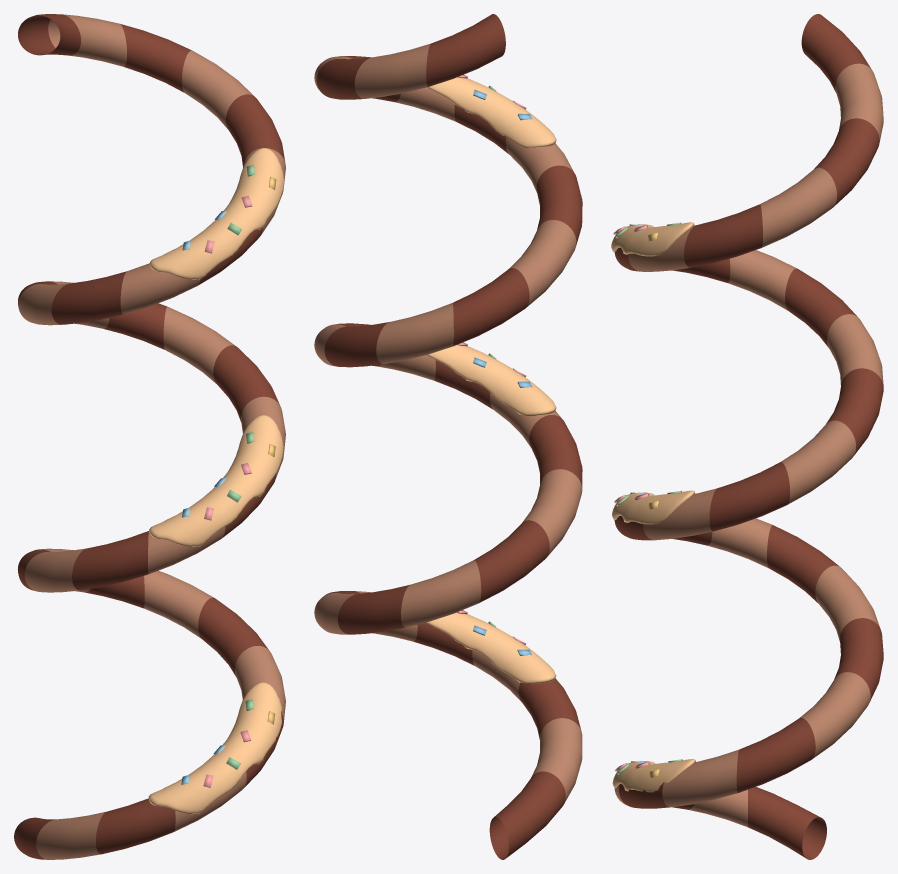
Rendered from spiral2.fbx.
The picture shows the model from 3 angles, left to right: view 1: azimuth 30°, elevation 25°; view 2: azimuth 150°, elevation 25°; view 3: azimuth 270°, elevation 25°; orthographic projection.
Visible parts, largest first — view 1: spiral_light.003; view 2: spiral_light.003; view 3: spiral_light.003.
Boxes of the visible parts, x1,y1,x2,y2 form: spiral_light.003: (14,14,285,859); spiral_light.003: (314,14,582,859); spiral_light.003: (611,14,883,859).
Bounding box in the file's own units: 1215 × 4209 × 1231.
